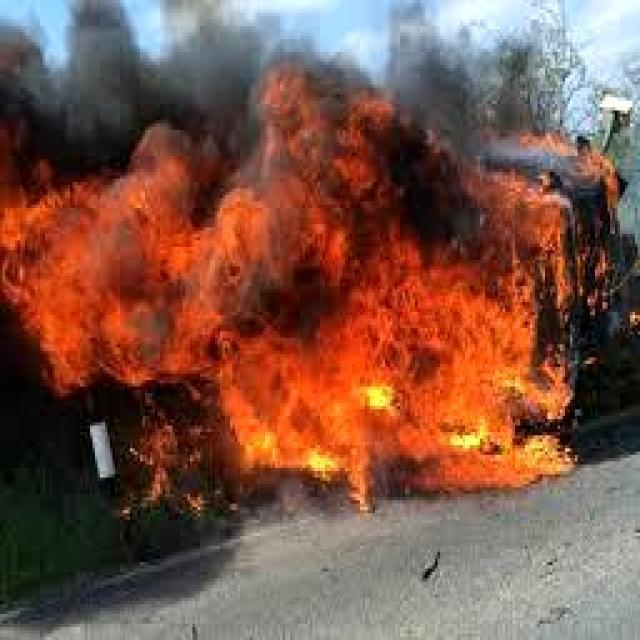Fire: (0, 61, 583, 506)
Smoke: (0, 0, 288, 178)
